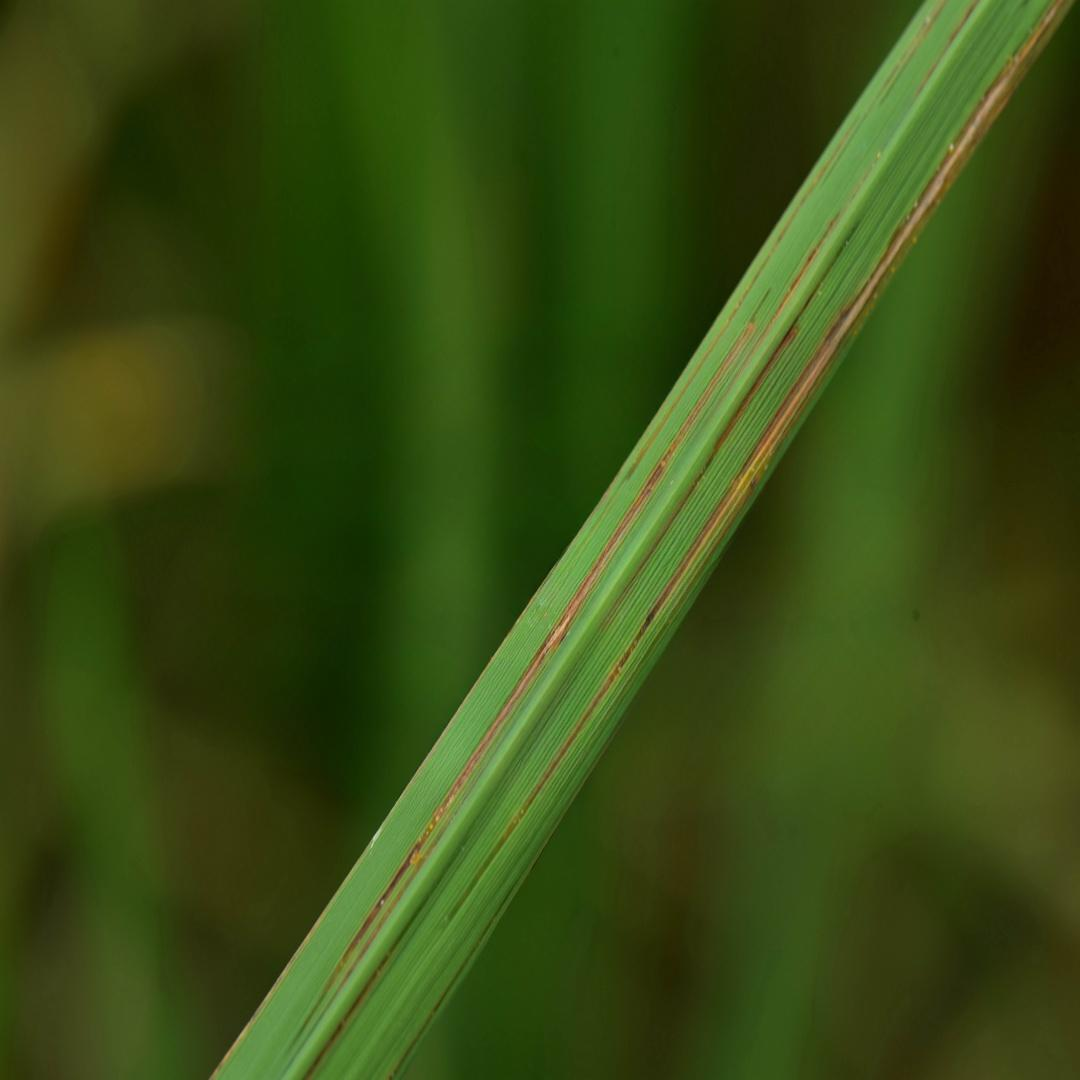BLS: (486, 0, 1076, 871), (287, 289, 769, 1048), (601, 202, 874, 630), (274, 741, 502, 1079), (622, 148, 837, 481), (708, 146, 887, 421), (208, 846, 368, 1079), (387, 881, 519, 1079), (301, 927, 408, 1079), (877, 0, 947, 108), (917, 0, 981, 94)
